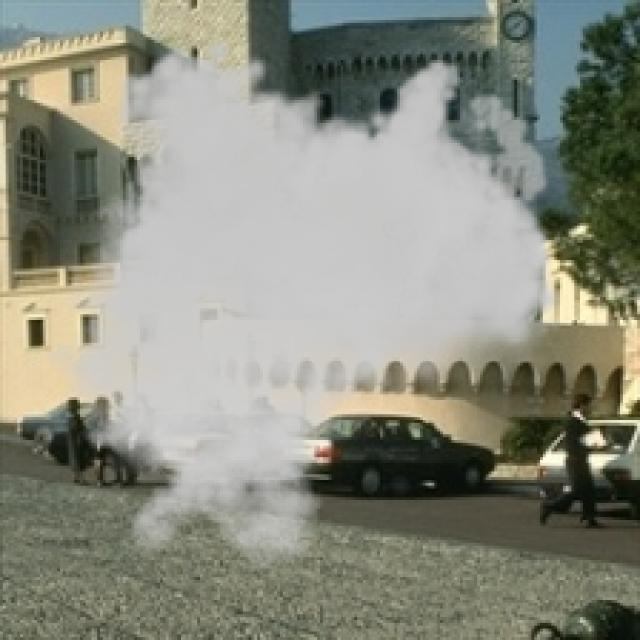smoke: (23, 34, 563, 572)
